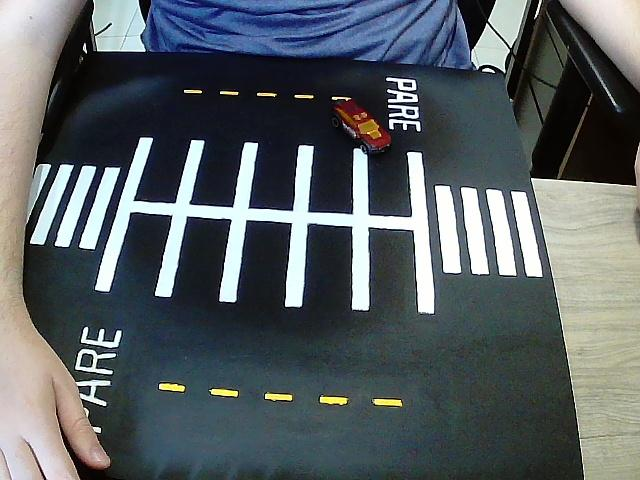Carro: (328, 95, 392, 155)
